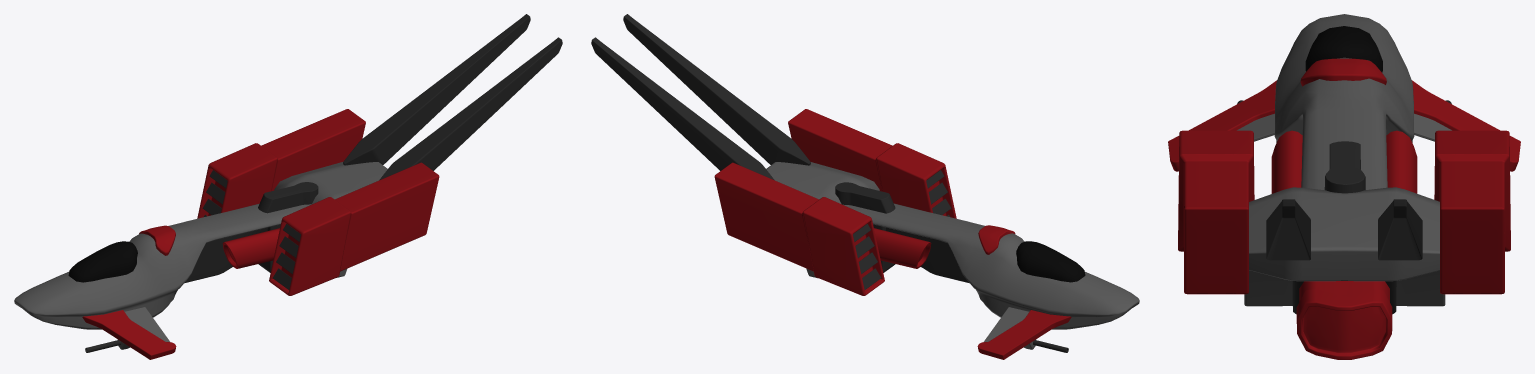
File: Corvette_03.fbx
The picture shows the model from 3 angles, left to right: view 1: azimuth 30°, elevation 25°; view 2: azimuth 150°, elevation 25°; view 3: azimuth 270°, elevation 25°; orthographic projection. The views are drawn at different scales.
Visible parts, largest first — view 1: Corvette_03; view 2: Corvette_03; view 3: Corvette_03.
Part boxes in pixels (x1=…): Corvette_03: x1=14, y1=14, x2=562, y2=359; Corvette_03: x1=591, y1=14, x2=1139, y2=359; Corvette_03: x1=1168, y1=14, x2=1520, y2=359.
Size of the model in its own units: 3788 by 1310 by 1267.
